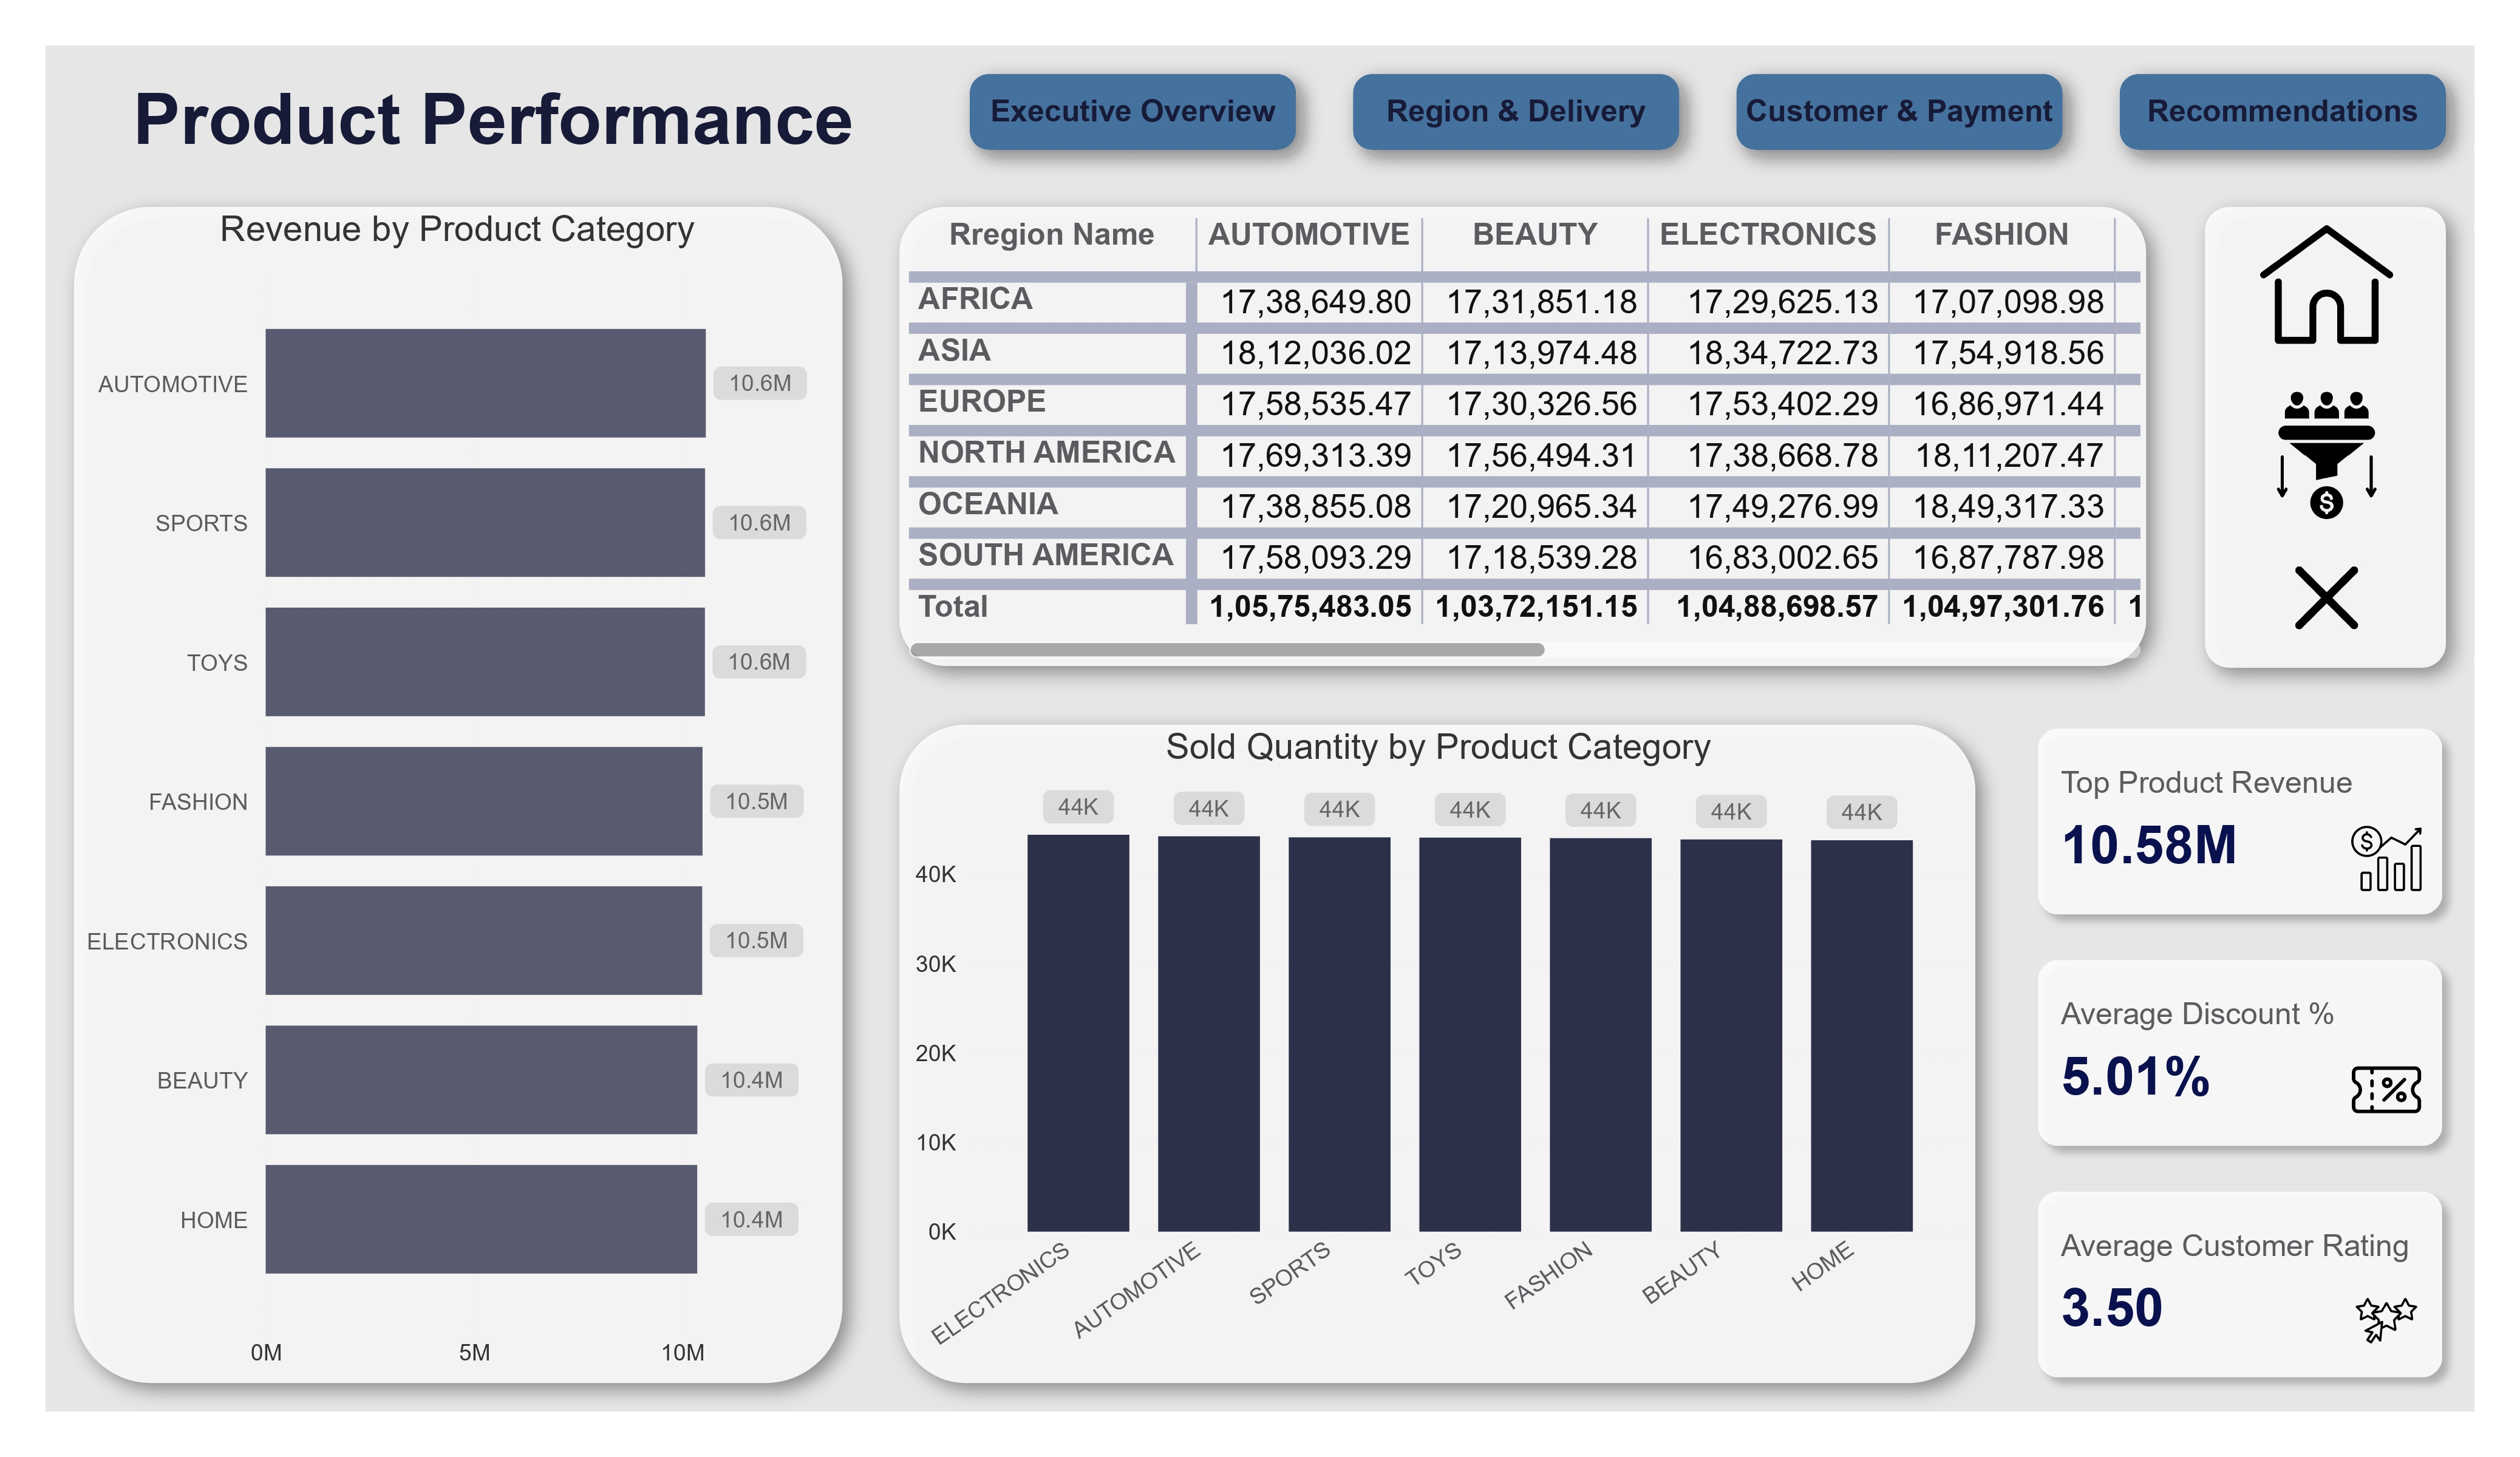

This screenshot's page, from the dashboard's own definition file:
{"tool":"powerbi","page":{"name":"Product Performance","canvas":[1280,720],"ordinal":2},"visuals":[{"type":"pageNavigator","box":[472.1,0,808.1,69.8],"z":0},{"type":"shape","box":[1122.9,70,157.1,272.9],"z":0,"group":"g1"},{"type":"image","box":[1135.8,175.7,131.4,80],"z":1000,"group":"g1"},{"type":"shape","box":[434.6,343.2,597.5,376.5],"z":1000},{"type":"textbox","box":[0,12.9,471.8,52.9],"z":2000},{"type":"image","box":[1135.8,253.2,131.6,75.7],"z":2000,"group":"g1"},{"type":"group","id":"g1","title":"Group 1","box":[1122.9,70,157.1,272.9],"z":3000},{"type":"image","box":[1135.8,85.7,131.4,80],"z":3000,"group":"g1"},{"type":"cardVisual","fields":{"Data":["fact_sales.Top Product Revenue","fact_sales.Average Discount %","fact_sales.Average Customer Rating"]},"box":[1033.3,343.3,246.7,376.7],"z":5000},{"type":"shape","box":[434.6,70.4,687.7,271.6],"z":6000},{"type":"shape","box":[0,70.4,434.6,649.4],"z":7000},{"type":"barChart","title":"Revenue by Product Category","fields":{"Category":["dim_product.product_category"],"Y":["fact_sales.Total Revenue"]},"box":[14.3,85.9,405.7,619],"z":8000},{"type":"pivotTable","fields":{"Columns":["dim_product.product_category"],"Values":["Sum(fact_sales.revenue)"],"Rows":["dim_region.region_name"]},"box":[449.8,85.9,659,242.2],"z":10000},{"type":"columnChart","title":"Sold Quantity by Product Category","fields":{"Category":["dim_product.product_category"],"Y":["fact_sales.Total Quantity"]},"box":[449.8,359.1,567.9,346],"z":11000},{"type":"image","box":[1210,405,47,47],"z":12000},{"type":"image","box":[1210,648,47,47],"z":13000},{"type":"image","box":[1210,527,47,47],"z":14000}]}

Visuals, with their boxes on the page's 1280x720 design canvas (x1, y1, x2, y2). These are canvas units, not pixel positions in the 2520x1457 screenshot, which may show the page scaled, cropped or inside an application window:
pageNavigator: x1=472, y1=0, x2=1280, y2=70
shape: x1=1123, y1=70, x2=1280, y2=343
image: x1=1136, y1=176, x2=1267, y2=256
shape: x1=435, y1=343, x2=1032, y2=720
textbox: x1=0, y1=13, x2=472, y2=66
image: x1=1136, y1=253, x2=1267, y2=329
"Group 1" group: x1=1123, y1=70, x2=1280, y2=343
image: x1=1136, y1=86, x2=1267, y2=166
cardVisual - fact_sales.Top Product Revenue x fact_sales.Average Discount %: x1=1033, y1=343, x2=1280, y2=720
shape: x1=435, y1=70, x2=1122, y2=342
shape: x1=0, y1=70, x2=435, y2=720
"Revenue by Product Category" barChart: x1=14, y1=86, x2=420, y2=705
pivotTable - dim_product.product_category x Sum(fact_sales.revenue): x1=450, y1=86, x2=1109, y2=328
"Sold Quantity by Product Category" columnChart: x1=450, y1=359, x2=1018, y2=705
image: x1=1210, y1=405, x2=1257, y2=452
image: x1=1210, y1=648, x2=1257, y2=695
image: x1=1210, y1=527, x2=1257, y2=574
